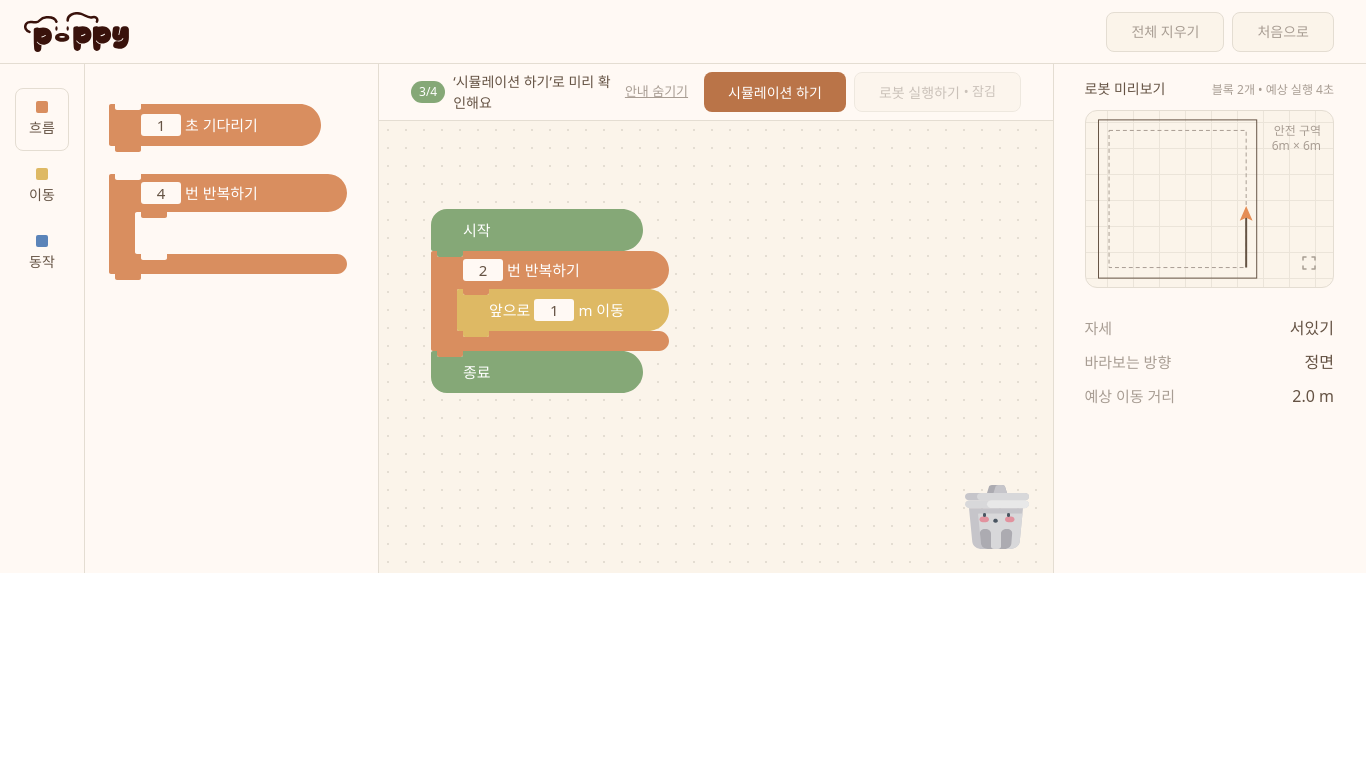
Test: ExperienceView › 종료 연결 → 시뮬레이션(mock API) 통과 → 로봇 실행하기 활성 + 안내 4/4
This screenshot has width=1366, height=768.
Replace the text in the number field named "반복 횟수" with "3" at (483, 270), box [463, 259, 503, 281]
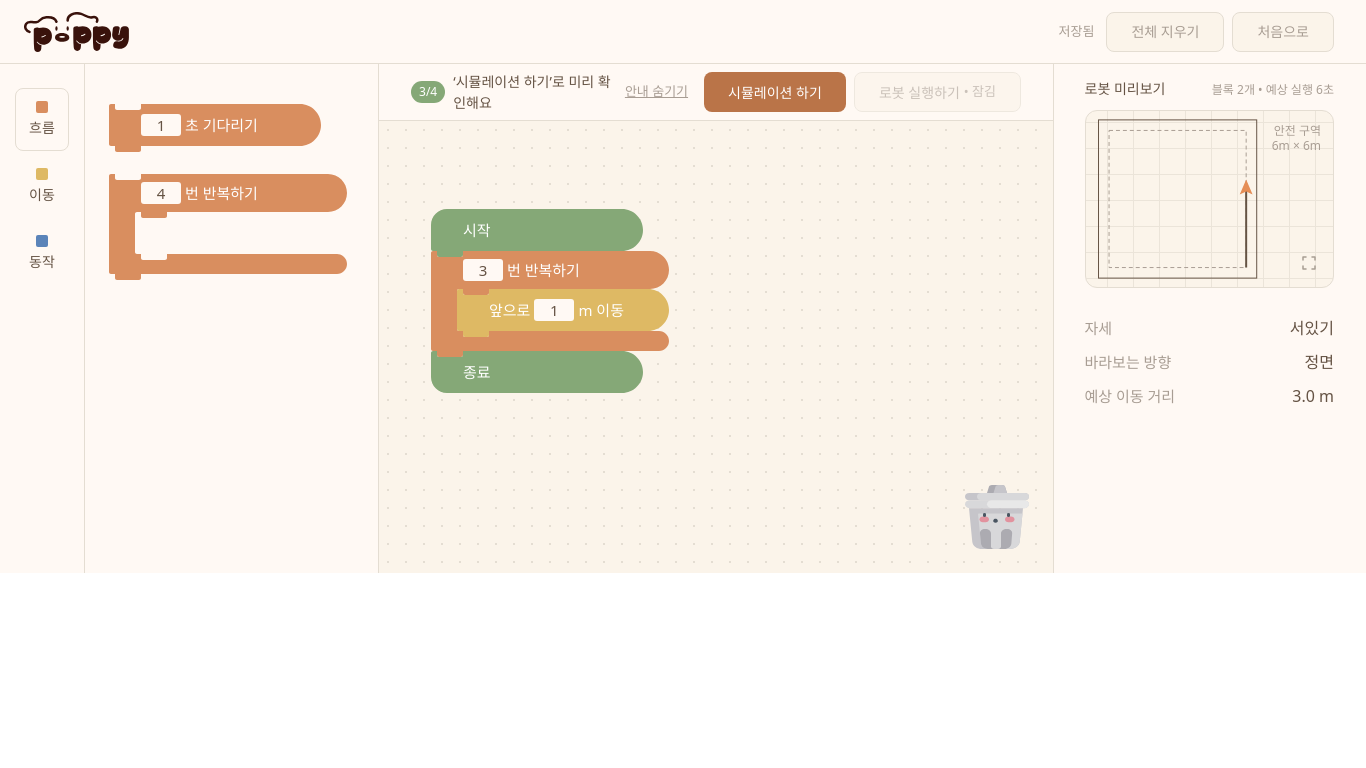
Click the button "시뮬레이션 하기" at (775, 92), box [704, 72, 846, 112]
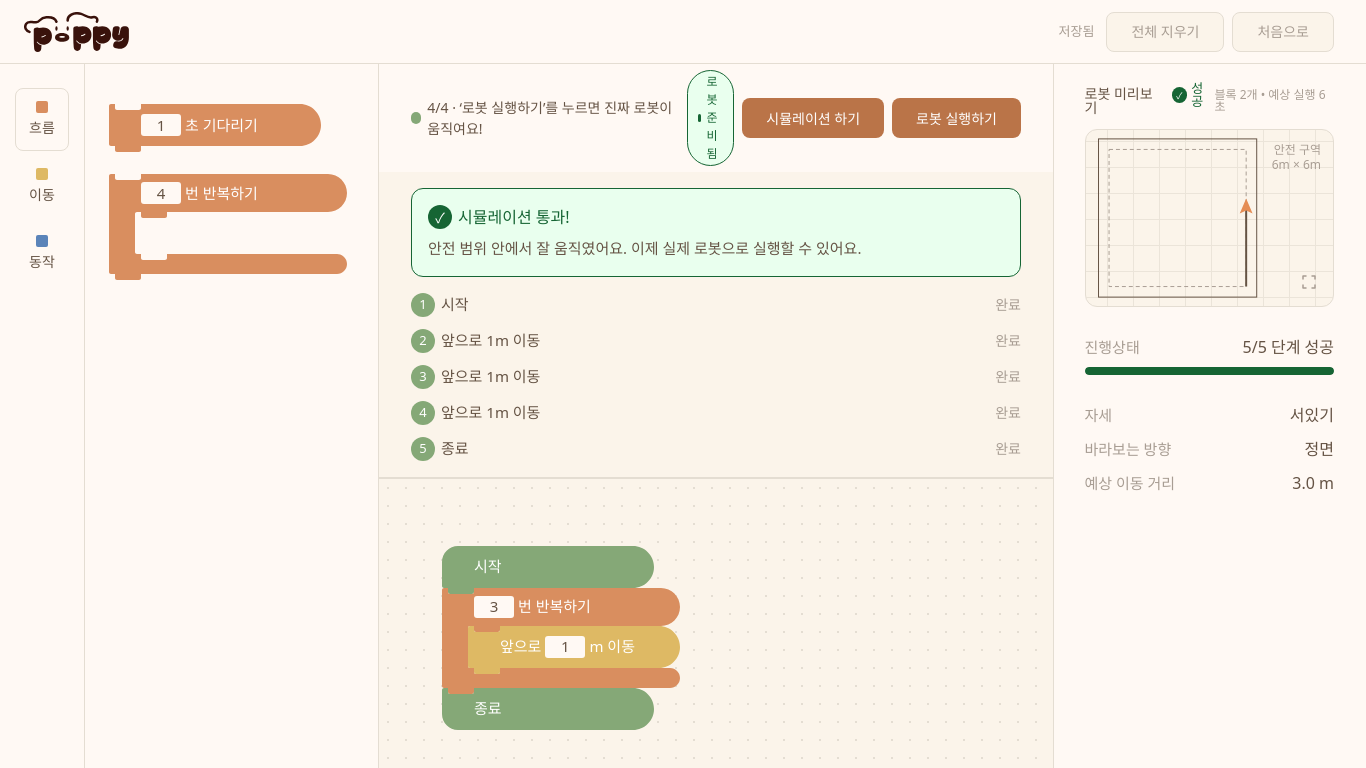
Expected: the button "로봇 실행하기" no longer shows "잠김", [892, 98, 1021, 138]
Expected: the text "4/4 · ‘로봇 실행하기’를 누르면 진짜 로봇이 움직여요!" is shown, [411, 97, 687, 139]
